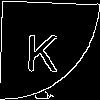K: (25, 24, 60, 72)
